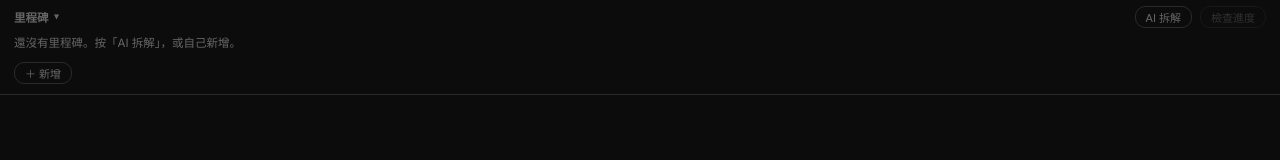
Test: MilestoneList – AI plan › shows a message and writes nothing when the AI fails or returns nothing usable
Click the button "AI 拆解" at (1163, 17), box [1134,6,1192,28]
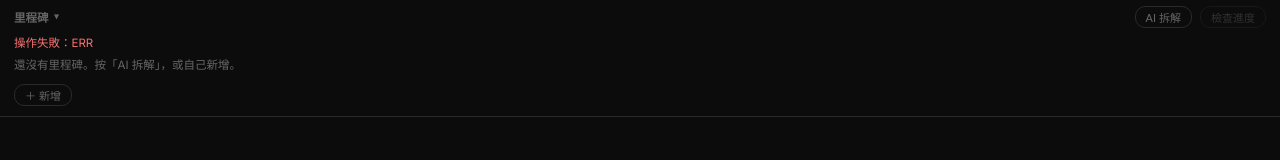
Check: the message shows "操作失敗", box [14,36,93,50]
Click the button "AI 拆解" at (1163, 17), box [1134,6,1192,28]
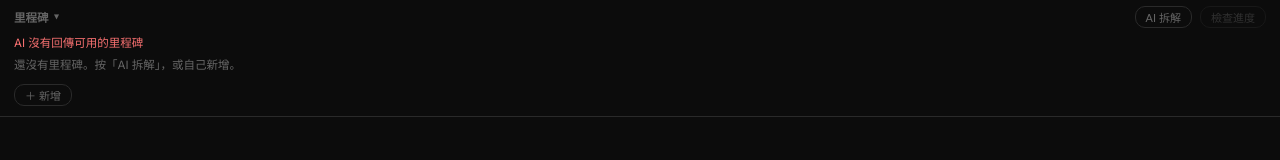
Check: the message shows "沒有回傳可用的里程碑", box [14,36,143,50]
